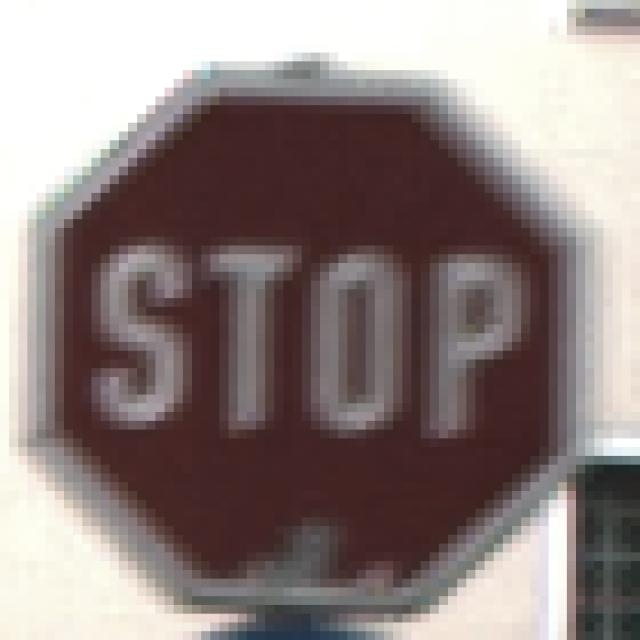STOP: (56, 54, 586, 589)
